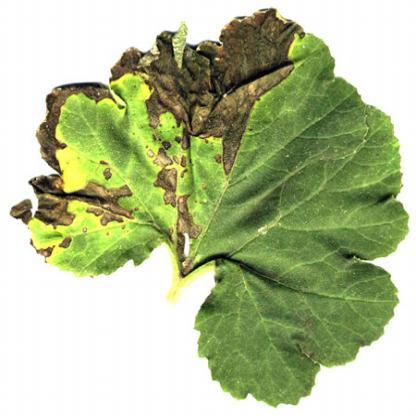Tomato leaf late blight: (19, 7, 300, 278)
